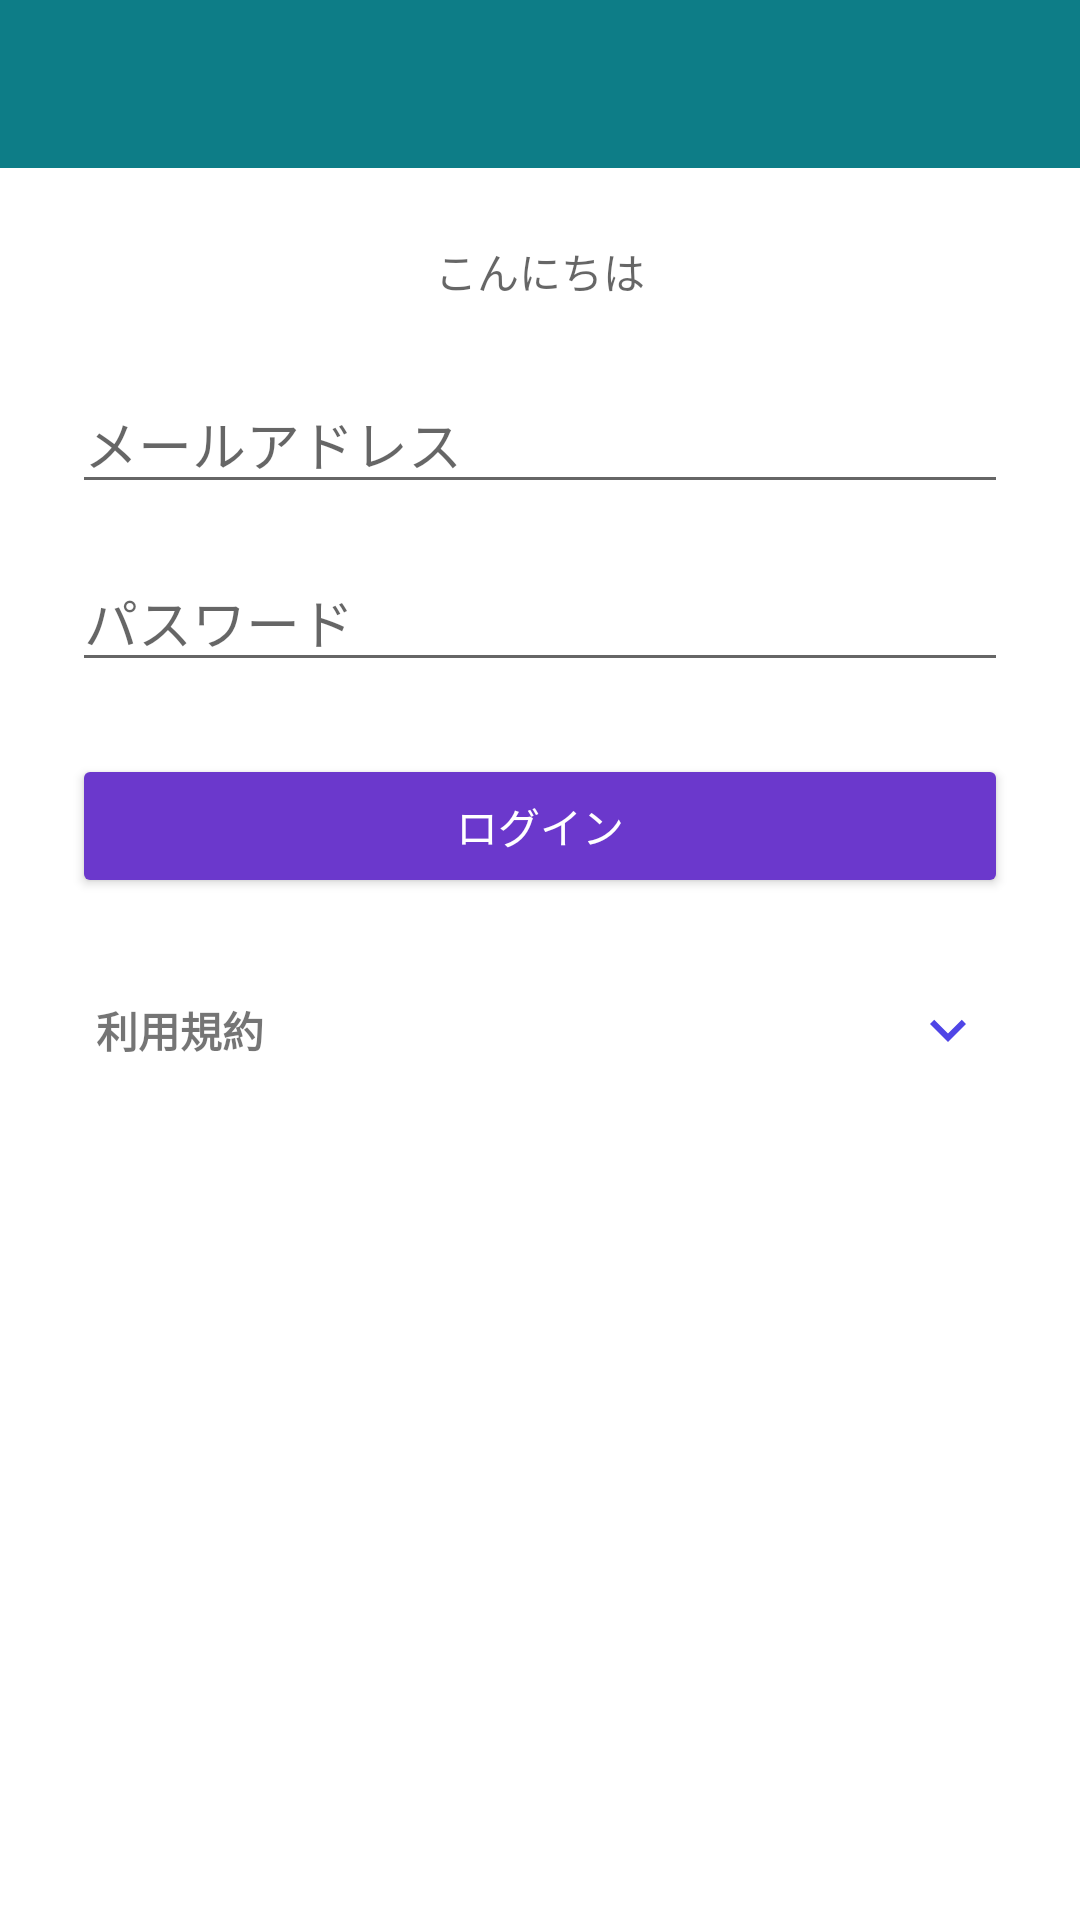

Icons on this 1080w x 1920h Android screen, each with its box as (x1, y1, x2, y2):
chevron down: (930, 1020, 966, 1042)
